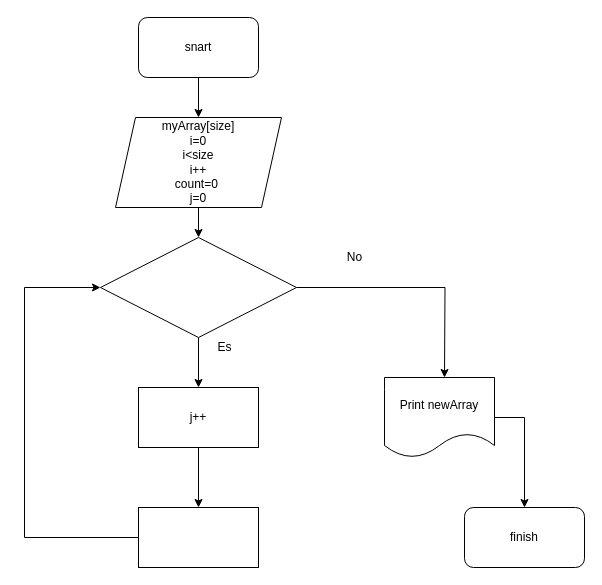
The diagram is 602 pixels wide and 585 high, and some of its shapes have lost their labels. Here are the shapes that lost their labels. From the top down, the centre of each, then its label:
At (198,287): "myArray(size)=newArray(size) if array[i]<=3".
At (198,537): "newAuuay".
